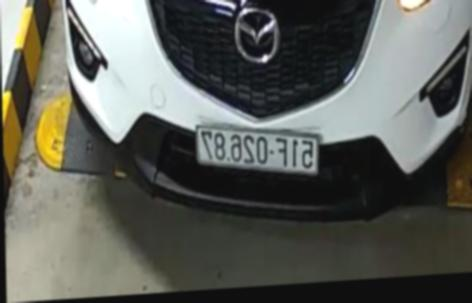License_Plate: (180, 116, 319, 180)
